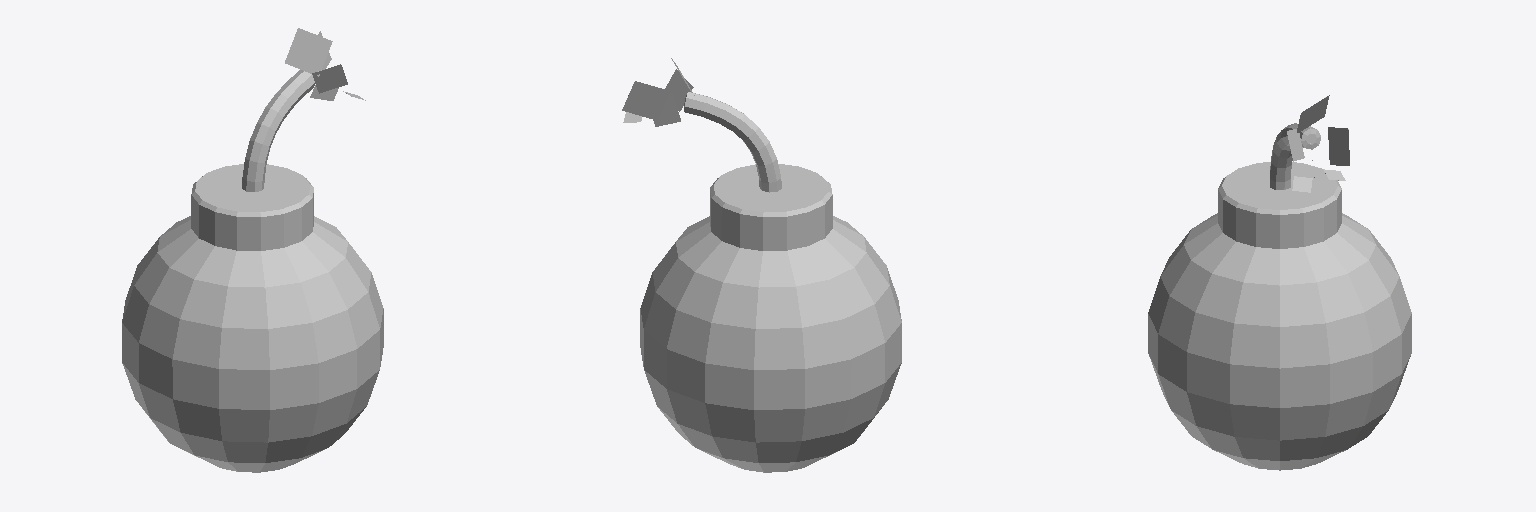
File: bomb_000011.obj
3 views of the same model, side by side, from view 1: azimuth 30°, elevation 25°; view 2: azimuth 150°, elevation 25°; view 3: azimuth 270°, elevation 25° (orthographic).
Visible parts, largest first — view 1: Sphere, NurbsPath, Plane_5.001_Mesh.001; view 2: Sphere, NurbsPath, Plane_5.001_Mesh.001; view 3: Sphere, Plane_5.001_Mesh.001, NurbsPath.
Boxes of the visible parts, <box> form: Sphere: <box>122,164,383,472</box>; NurbsPath: <box>242,70,315,191</box>; Plane_5.001_Mesh.001: <box>285,28,365,100</box>; Sphere: <box>640,164,901,472</box>; NurbsPath: <box>684,92,781,192</box>; Plane_5.001_Mesh.001: <box>622,58,694,126</box>; Sphere: <box>1148,162,1411,470</box>; Plane_5.001_Mesh.001: <box>1287,95,1349,192</box>; NurbsPath: <box>1270,123,1320,189</box>.
Bounding box in the file's own units: 0.9002 × 1.42 × 0.8758.